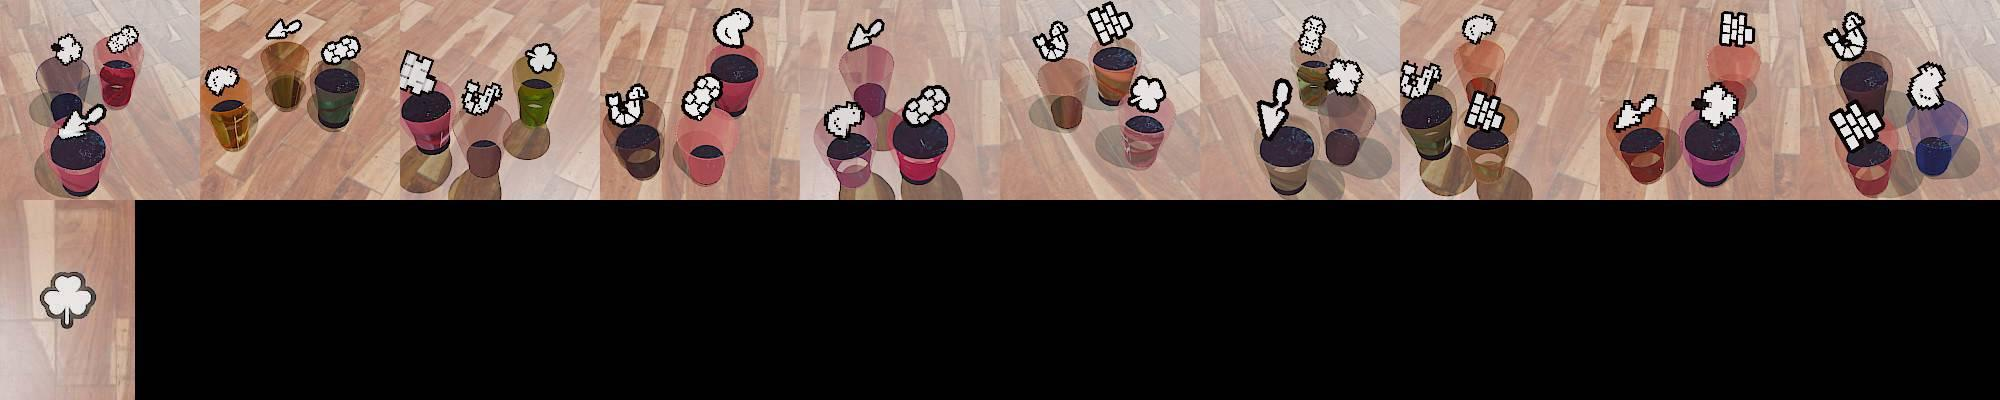icon: (37, 271, 96, 327), (1828, 101, 1885, 152), (1256, 76, 1295, 140), (1824, 10, 1871, 61), (1691, 80, 1740, 126), (1087, 1, 1134, 46), (1906, 62, 1949, 108), (55, 101, 106, 139), (606, 82, 649, 126), (1462, 88, 1506, 131), (903, 84, 950, 125), (710, 8, 754, 50), (681, 75, 722, 120), (398, 50, 439, 94), (1612, 90, 1657, 131), (1032, 17, 1070, 62), (824, 99, 867, 139), (1126, 74, 1168, 113), (460, 78, 504, 116), (1324, 57, 1365, 96), (1401, 60, 1439, 101), (1717, 10, 1755, 48), (847, 18, 885, 51), (1460, 13, 1496, 47), (320, 36, 361, 65), (1297, 14, 1327, 54), (203, 65, 240, 96), (51, 33, 85, 65), (524, 42, 559, 73), (106, 24, 140, 55), (265, 18, 302, 39)
